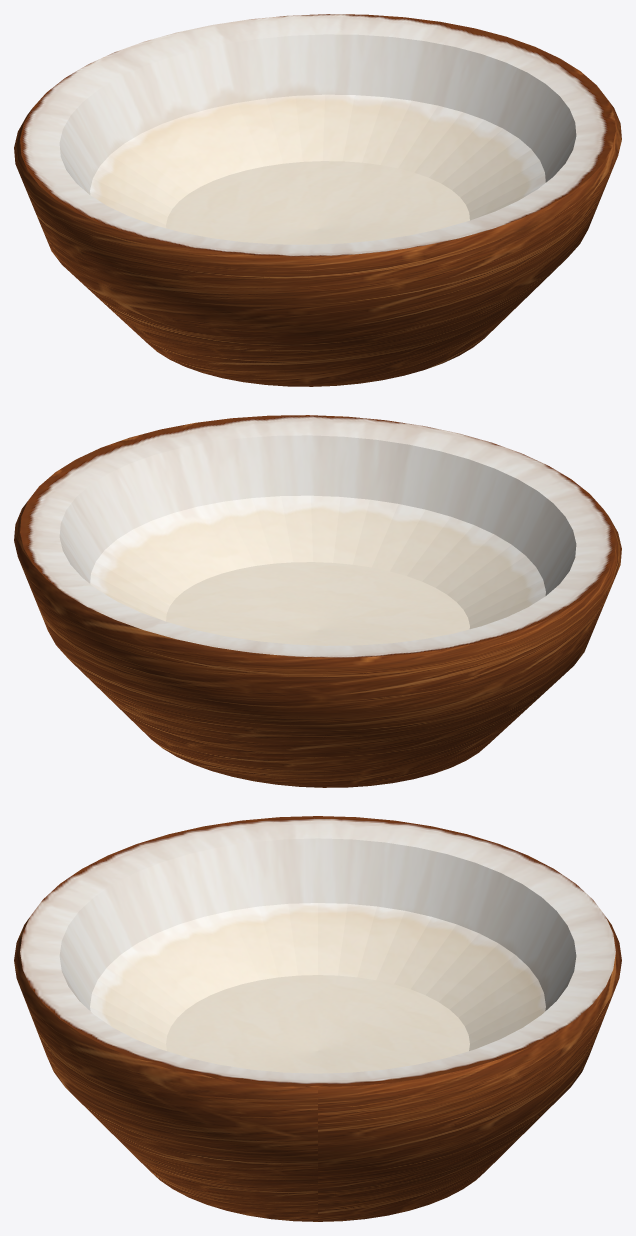
File: coconut_half-CThBv4ad.glb
3 views of the same model, one above another, from view 1: azimuth 30°, elevation 25°; view 2: azimuth 150°, elevation 25°; view 3: azimuth 270°, elevation 25° (orthographic). The views are drawn at different scales.
Visible parts, largest first — view 1: HI_coconut_half; view 2: HI_coconut_half; view 3: HI_coconut_half.
Part boxes in pixels (box(x1,y1,x2,y2)): HI_coconut_half: box(14, 14, 621, 386); HI_coconut_half: box(14, 415, 621, 787); HI_coconut_half: box(14, 816, 621, 1221).
Bounding box in the file's own units: 1.4 × 0.52 × 1.3.
1 material, 1 textured.
